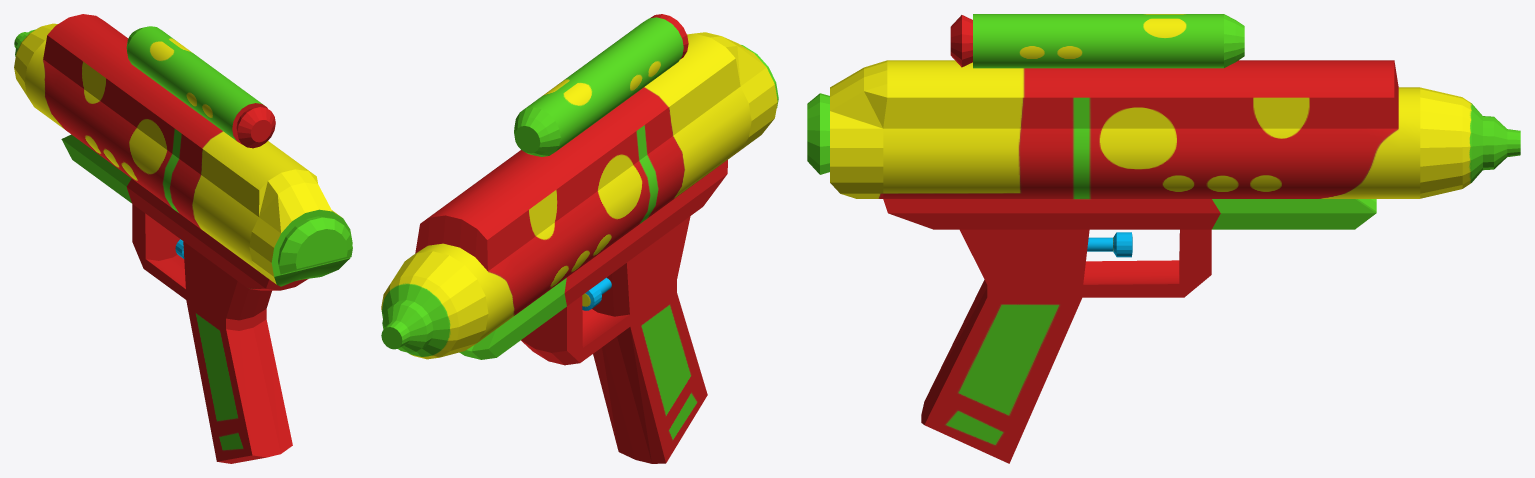
File: Gun_Update.FBX
The picture shows the model from 3 angles, left to right: view 1: azimuth 30°, elevation 25°; view 2: azimuth 150°, elevation 25°; view 3: azimuth 270°, elevation 25°; orthographic projection. The views are drawn at different scales.
Parts seen in each view (by area): view 1: Cylinder001, Cylinder002; view 2: Cylinder001, Cylinder002, Cylinder003; view 3: Cylinder001, Cylinder002, Cylinder003.
Part boxes in pixels (left/top/right/bottom): Cylinder001: left=14, top=14, right=352, bottom=463; Cylinder002: left=126, top=26, right=275, bottom=148; Cylinder001: left=381, top=32, right=778, bottom=463; Cylinder002: left=514, top=14, right=688, bottom=156; Cylinder003: left=582, top=277, right=611, bottom=310; Cylinder001: left=807, top=60, right=1520, bottom=463; Cylinder002: left=950, top=14, right=1244, bottom=68; Cylinder003: left=1087, top=232, right=1132, bottom=257.
Size of the model in its own units: 26.4 by 115 by 168.
1 material, 1 textured.
